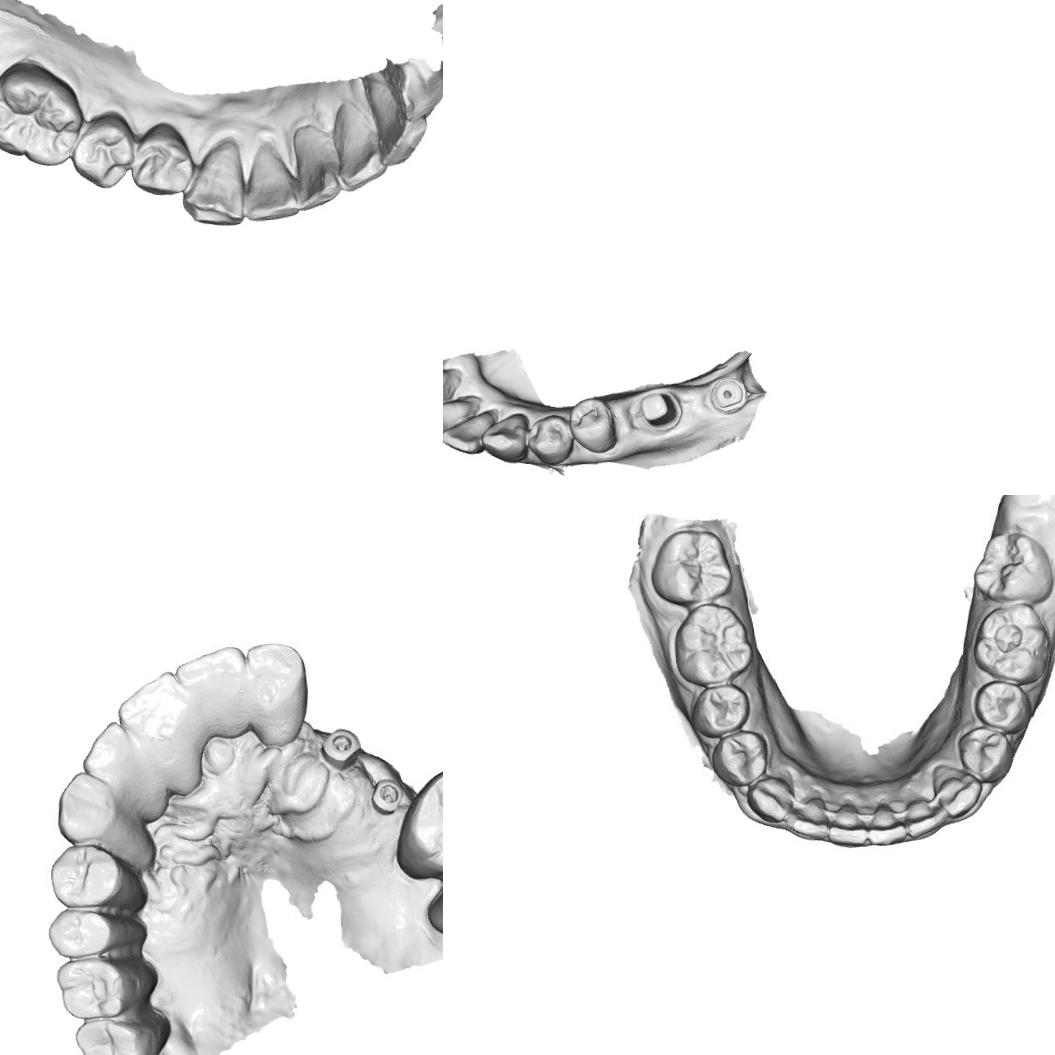abutment: (638, 389, 683, 432)
canine: (52, 770, 160, 876), (179, 138, 245, 230), (479, 410, 530, 466), (749, 772, 794, 818), (937, 764, 978, 813)
implant: (368, 772, 412, 822), (322, 726, 364, 772), (708, 374, 748, 414)
incisor: (116, 674, 203, 796), (180, 644, 257, 748), (84, 720, 162, 822), (248, 641, 312, 746), (364, 81, 430, 168), (334, 105, 390, 193), (290, 127, 346, 213), (239, 148, 299, 224), (443, 408, 496, 455), (788, 793, 834, 843), (866, 797, 906, 845), (904, 792, 942, 841), (828, 801, 868, 843), (443, 398, 474, 441)
molar: (0, 58, 80, 169), (668, 600, 756, 686), (650, 526, 731, 608), (978, 603, 1055, 687), (970, 531, 1050, 604), (55, 960, 150, 1020), (400, 765, 443, 876), (67, 1012, 166, 1055)
premolar: (53, 845, 153, 912), (48, 904, 152, 960), (70, 111, 139, 191), (130, 127, 193, 199), (707, 726, 770, 788), (694, 681, 752, 736), (566, 396, 618, 456), (972, 678, 1024, 732), (526, 412, 573, 467), (963, 728, 1015, 776)
